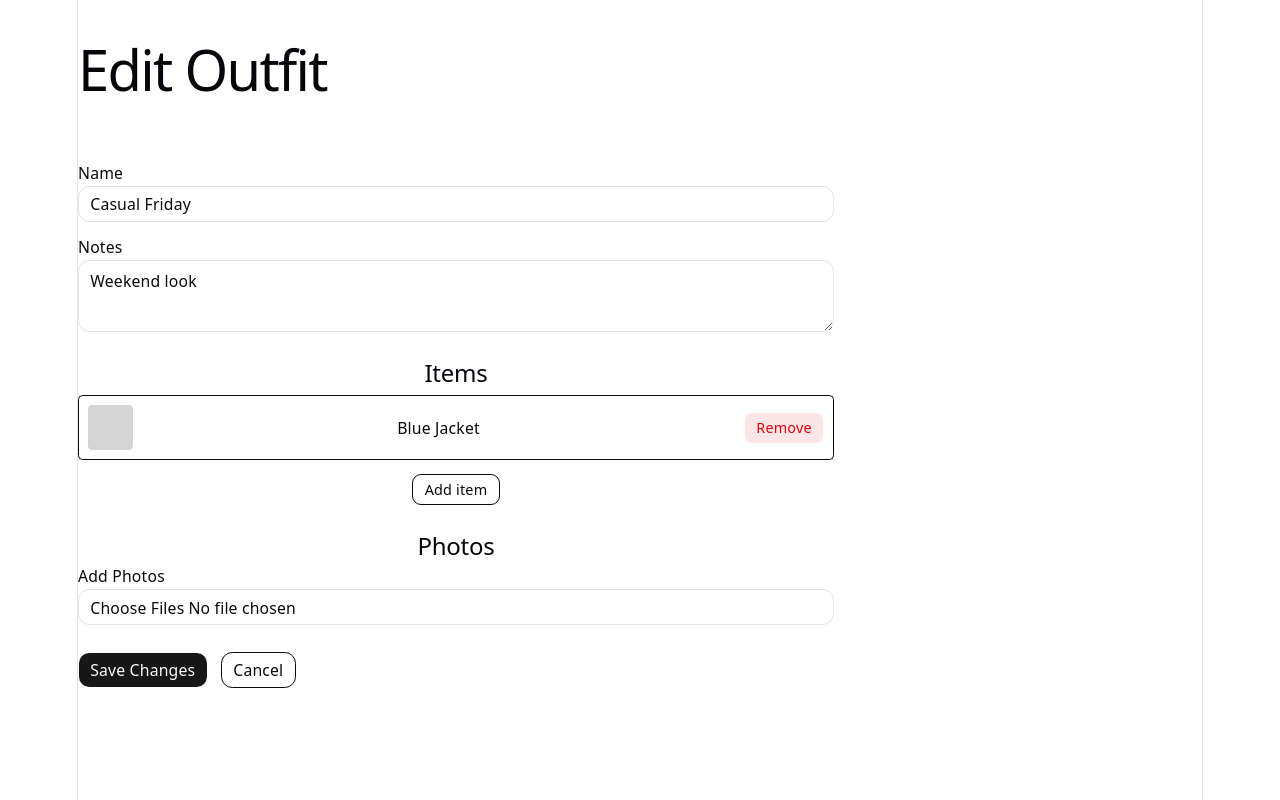
it: EditOutfitPage › EditOutfitPage should exclude items already in the outfit from ItemPicker
Check: the field showing "Casual Friday" is shown, box [78, 186, 834, 222]
Click the button "Add item": (456, 490) [412, 474, 500, 506]
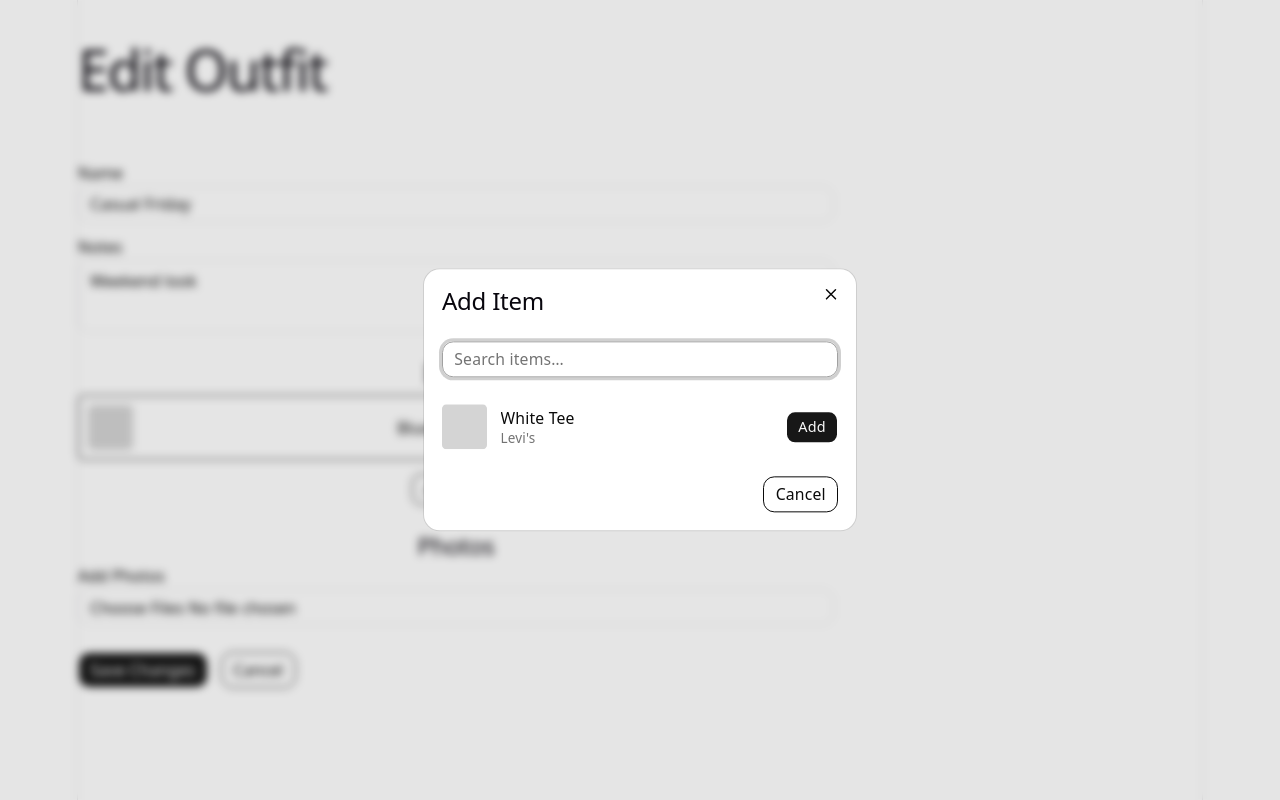
Check: the dialog is shown, box [424, 269, 856, 531]
Check: the number of buttons "Add" is 1, box [786, 411, 838, 443]
